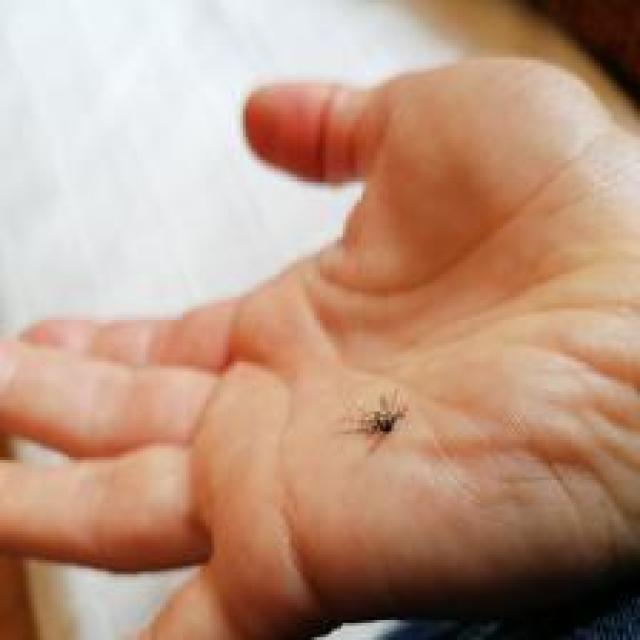Aedes albopictus: (341, 387, 410, 444)
